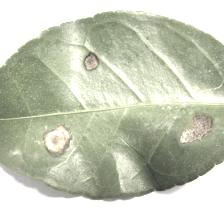canker: (38, 56, 212, 155)
